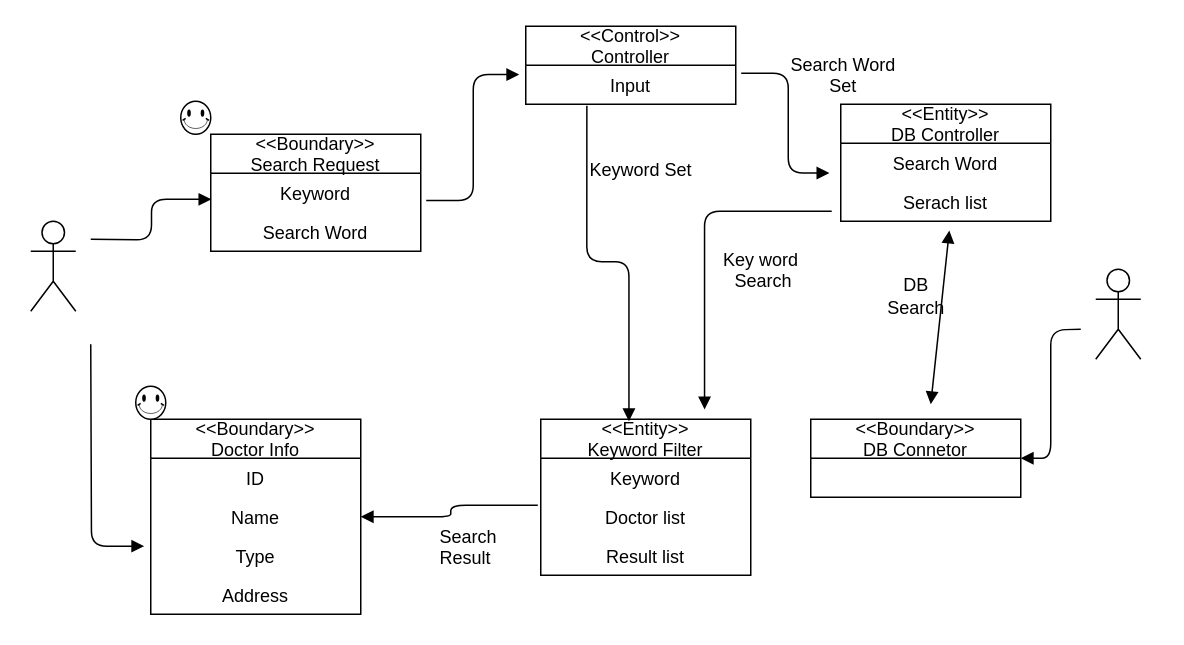
Some shapes in this 1184 by 645 pixel diagram are drawn without their labels. Here are the shapes that lost their labels. From the top down, the centre of each, then its label:
At point (52, 265): "Patient".
At point (1117, 313): "DataBase".
